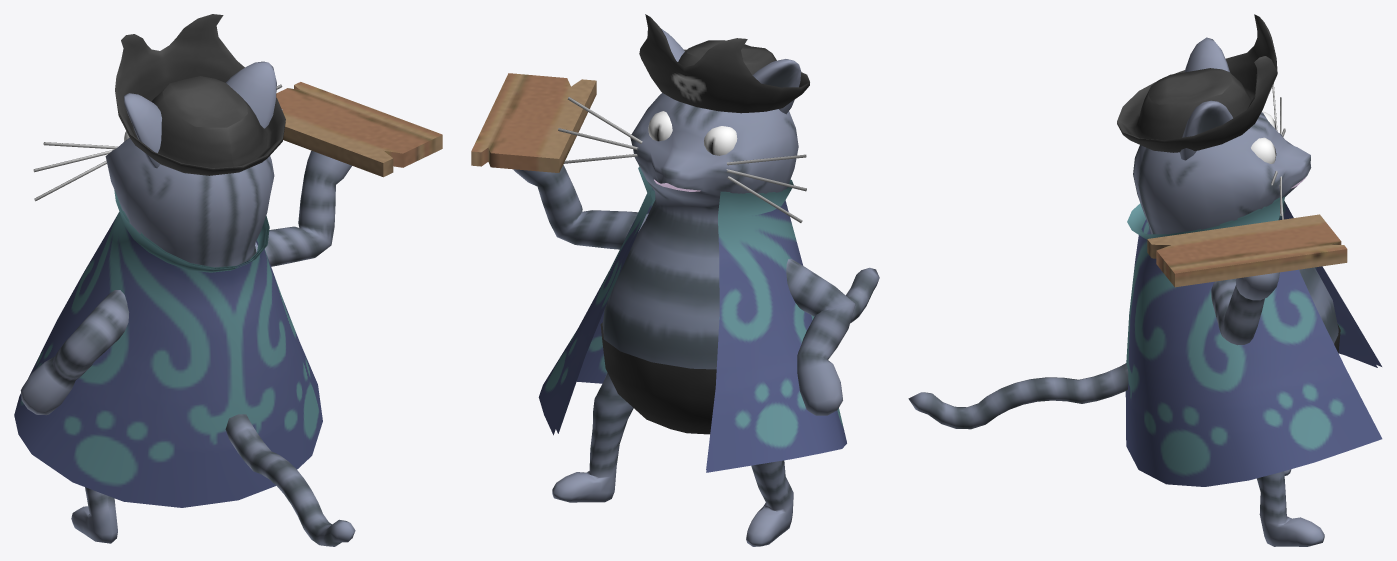
Rendered from neko_idle_c_01.fbx.
The picture shows the model from 3 angles, left to right: view 1: azimuth 30°, elevation 25°; view 2: azimuth 150°, elevation 25°; view 3: azimuth 270°, elevation 25°; orthographic projection. The views are drawn at different scales.
Visible parts, largest first — view 1: I_c_01; view 2: I_c_01; view 3: I_c_01.
Part boxes in pixels (bbox=[...]): I_c_01: bbox=[14, 14, 442, 546]; I_c_01: bbox=[471, 14, 879, 546]; I_c_01: bbox=[908, 14, 1382, 546].
Bounding box in the file's own units: 1.55 × 1.94 × 1.76.
Materials: 1 (1 with a texture image).
